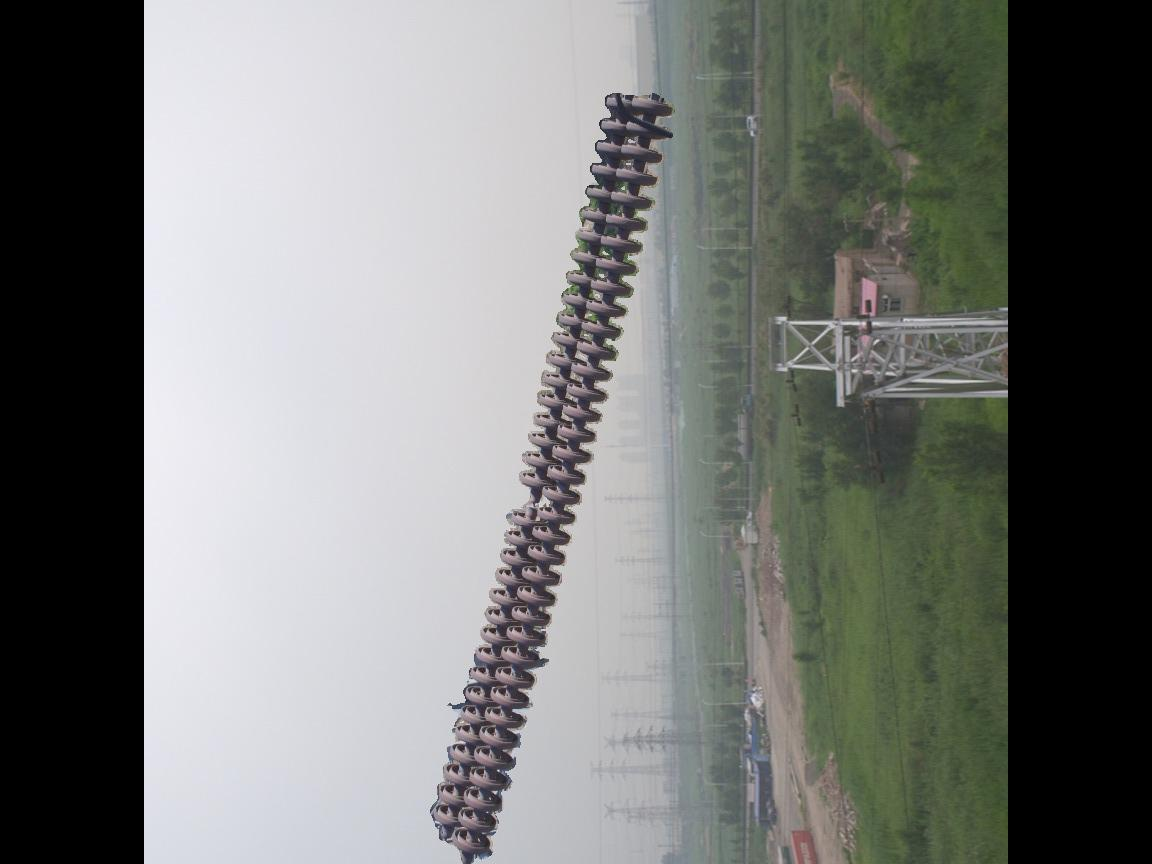insulator: (427, 82, 680, 862)
insulator_stringdrop: (499, 469, 556, 532)
